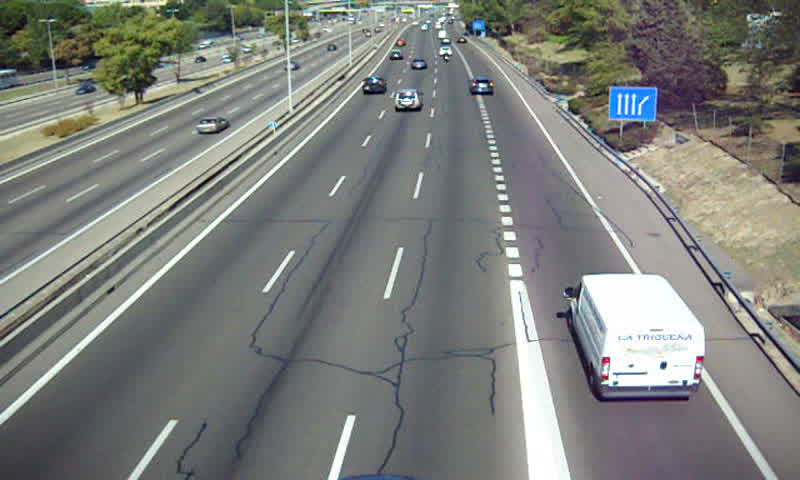car: (393, 90, 424, 112), (470, 78, 496, 97), (361, 77, 386, 96)
van: (565, 273, 713, 400)
